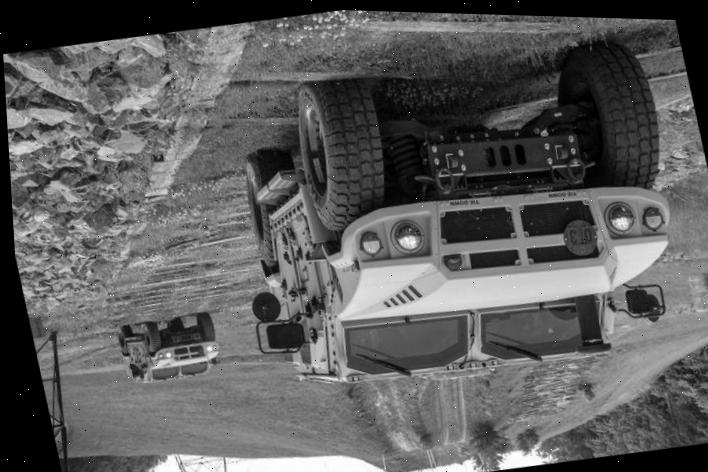armored_car: (196, 22, 708, 412), (113, 309, 224, 389)
